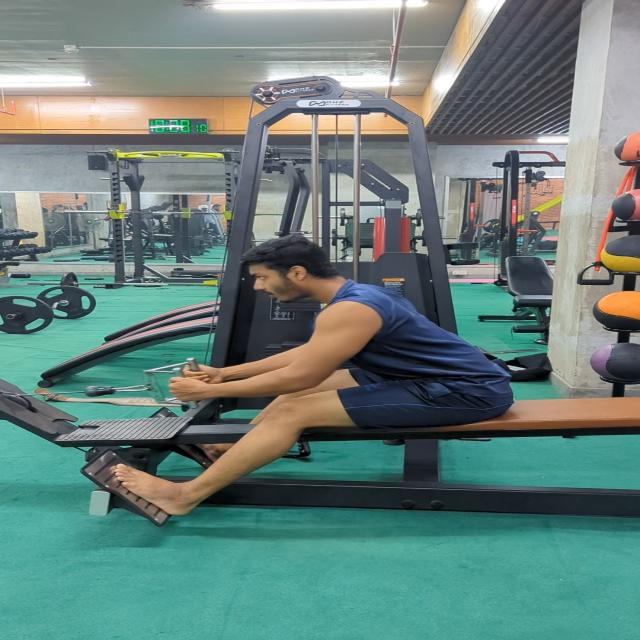Normal_RowingMachineExercise: (108, 236, 517, 517)
